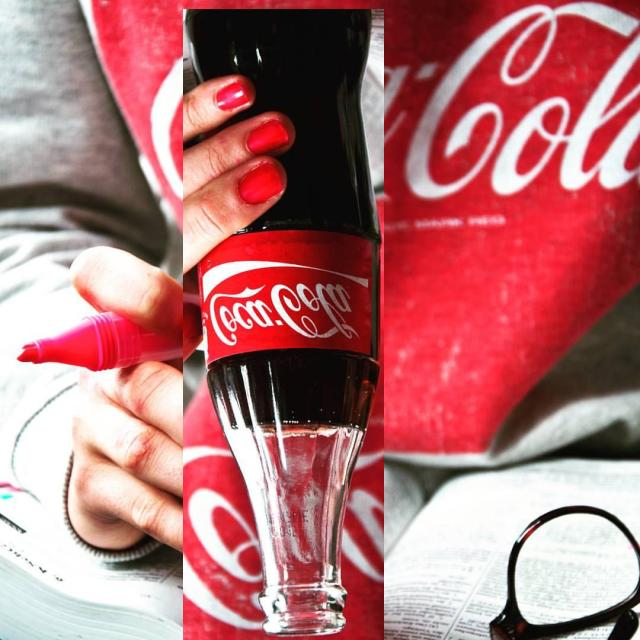coca-cola: (183, 9, 384, 640)
